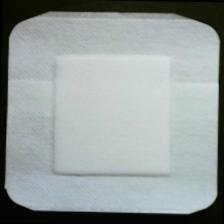Dressing: (3, 10, 222, 216)
